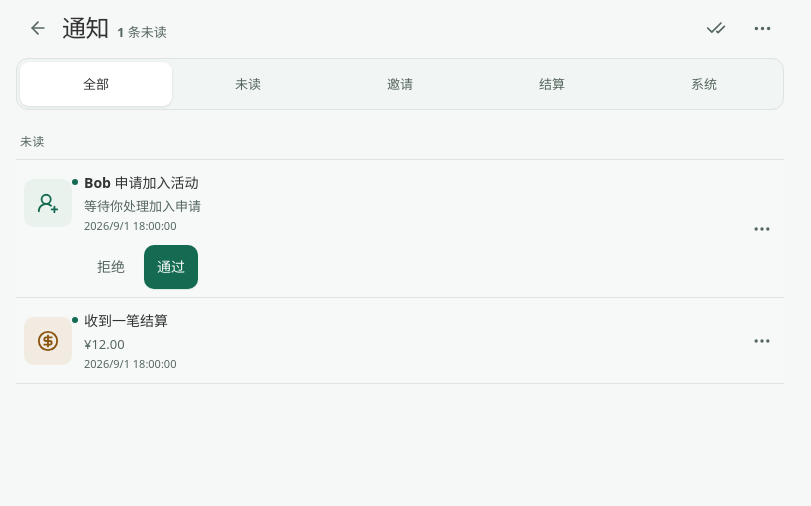
Test: NotificationsPage › 按是否存在审批动作标记通知行布局
Press the mouse on the button named "通知操作" in the row of "收到一笔结算": (762, 341) [740,319,784,363]
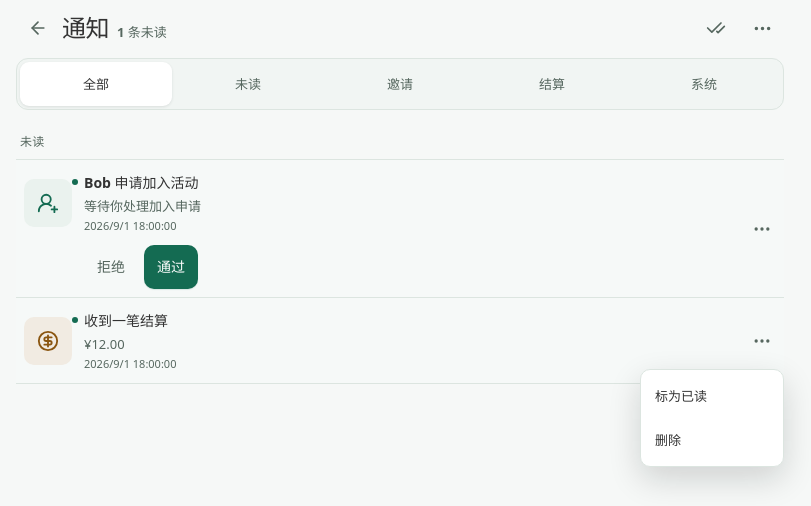
Expected: the menu item "删除" is shown, [645,418,691,462]
